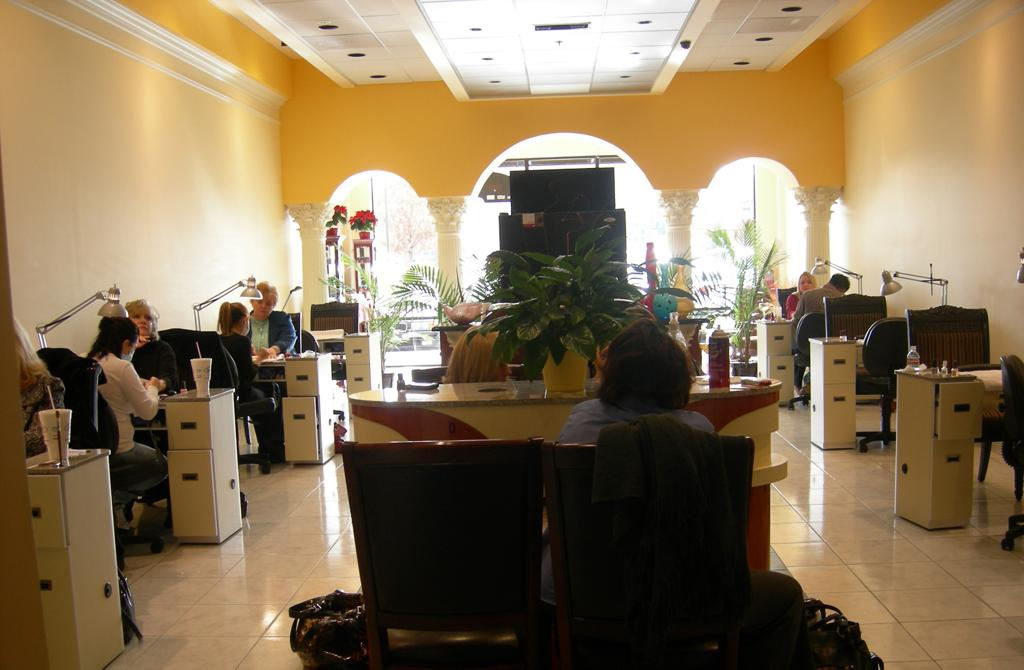face: (130, 312, 152, 335), (254, 295, 272, 317), (799, 274, 813, 291)
